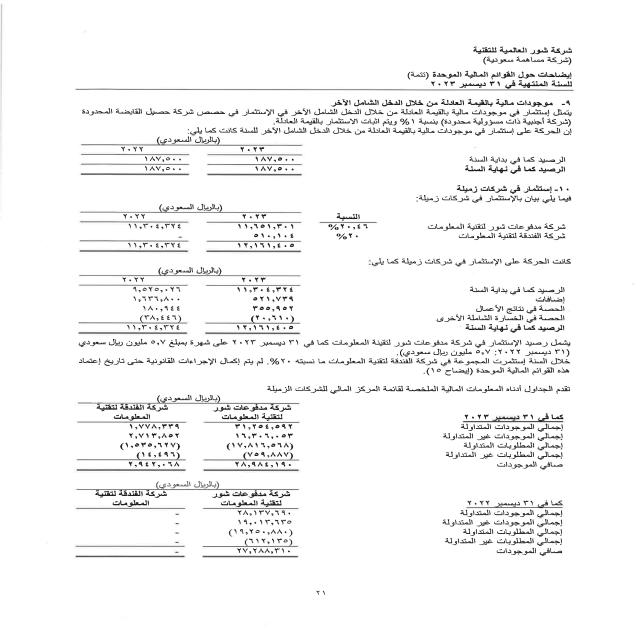notes: (398, 70, 574, 81)
table: (46, 482, 305, 567), (48, 391, 305, 475), (56, 261, 312, 338), (42, 200, 394, 253), (48, 132, 310, 190)
